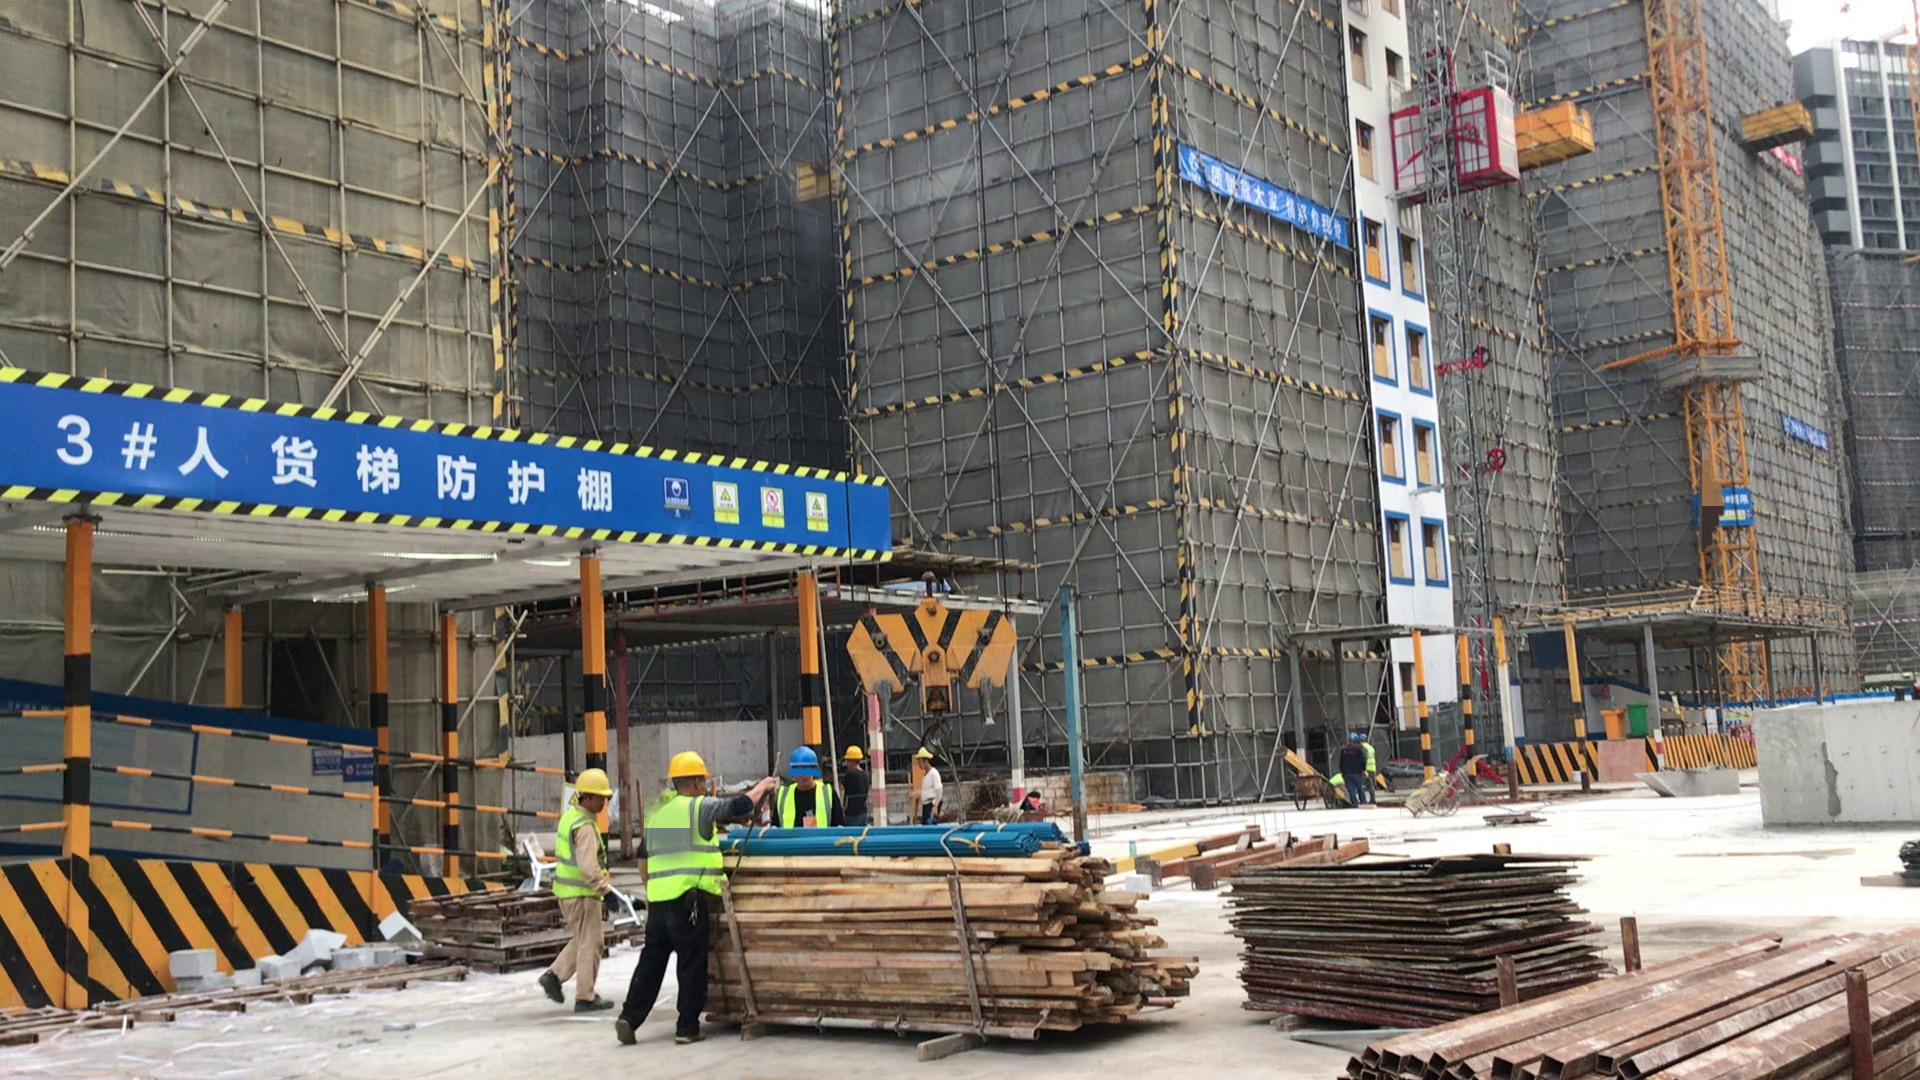board: (1239, 860, 1600, 1024)
ebox: (1605, 706, 1625, 737)
handcart: (1404, 773, 1456, 812), (1292, 776, 1338, 812)
helmet: (575, 767, 612, 797), (668, 753, 708, 778), (788, 746, 818, 767), (845, 746, 863, 760), (914, 747, 932, 758), (1348, 733, 1358, 742)
hook: (847, 581, 1017, 757)
hopper: (1638, 765, 1740, 799)
person: (640, 757, 715, 1042), (547, 769, 609, 1014), (779, 745, 833, 830), (906, 745, 944, 826), (840, 745, 869, 827), (1340, 731, 1365, 806), (1359, 735, 1383, 803)
scaffold: (1355, 941, 1920, 1078)
slogan: (1174, 149, 1351, 246), (661, 479, 828, 534), (1781, 416, 1832, 450)
vest: (650, 800, 725, 896), (552, 814, 605, 901), (778, 783, 832, 833), (1362, 742, 1377, 774)
wood: (728, 858, 1183, 1031)
